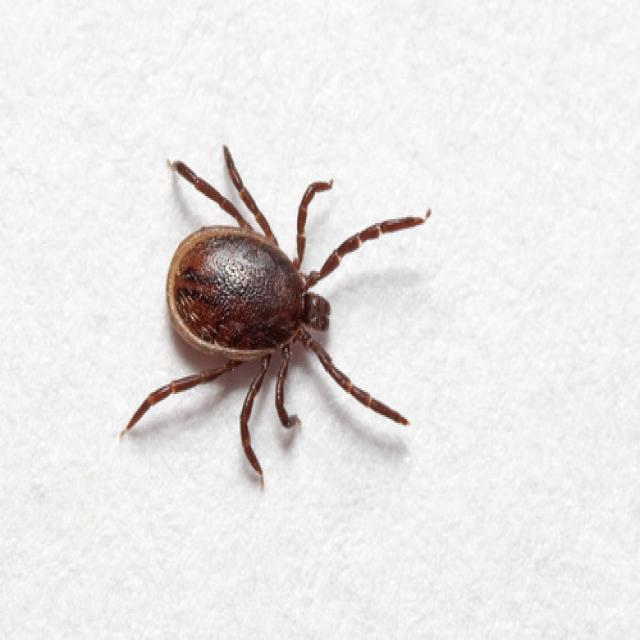Ixodes Ricinus-M: (119, 150, 430, 488)
